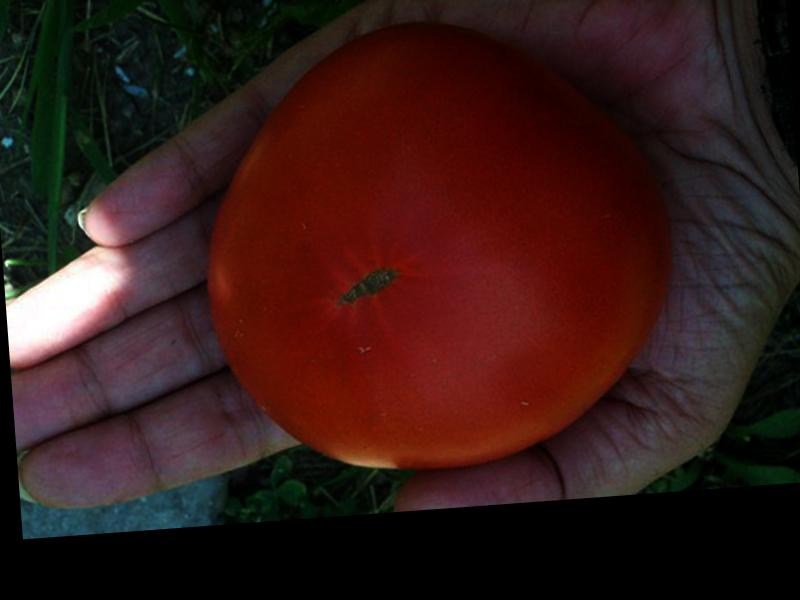Tomato: (191, 5, 680, 484)
